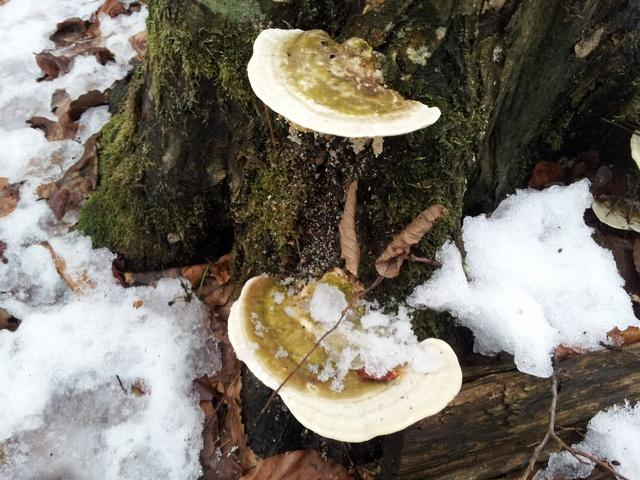poisonous_mushroom: (226, 269, 463, 443), (245, 25, 442, 139)
